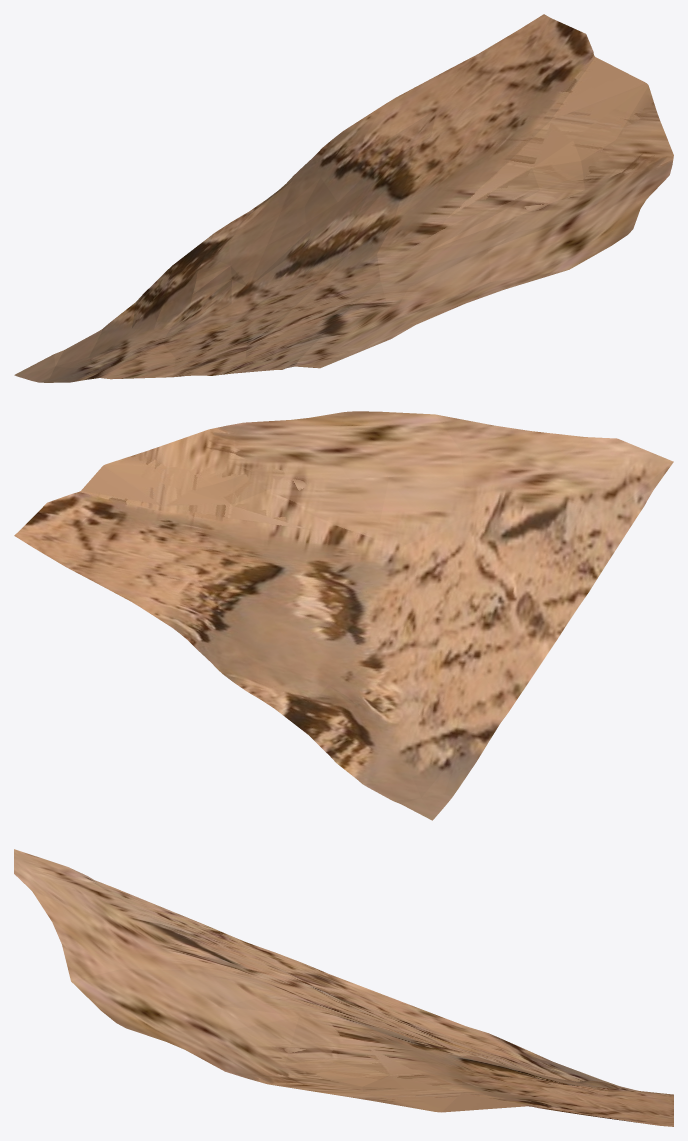
The picture shows the model from 3 angles, top to bottom: view 1: azimuth 30°, elevation 25°; view 2: azimuth 150°, elevation 25°; view 3: azimuth 270°, elevation 25°; orthographic projection. The views are drawn at different scales.
Bounding box in the file's own units: 1.04 × 0.457 × 1.04.
Materials: 2 (2 with a texture image).
